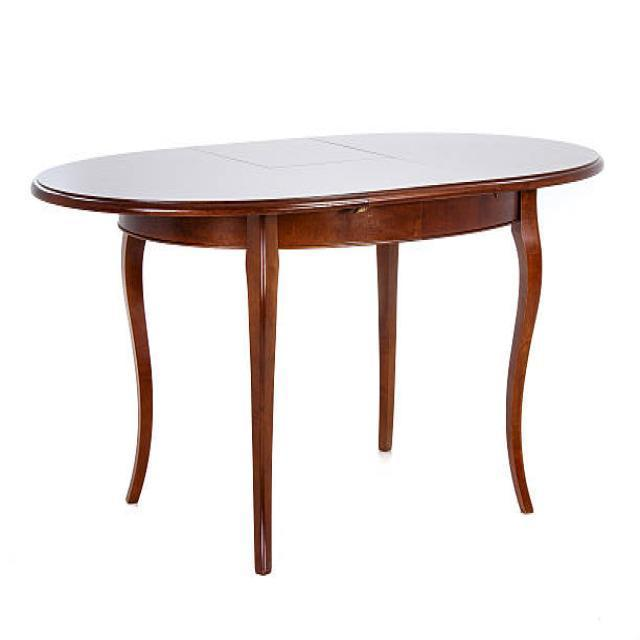table: (31, 128, 604, 576)
